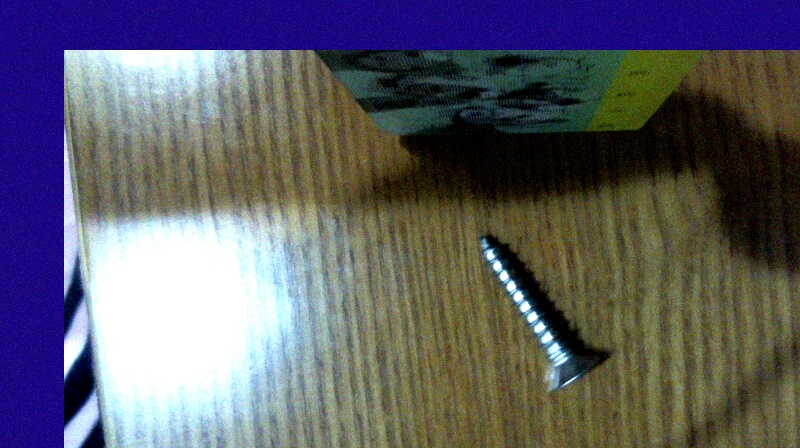S001: (476, 226, 617, 398)
